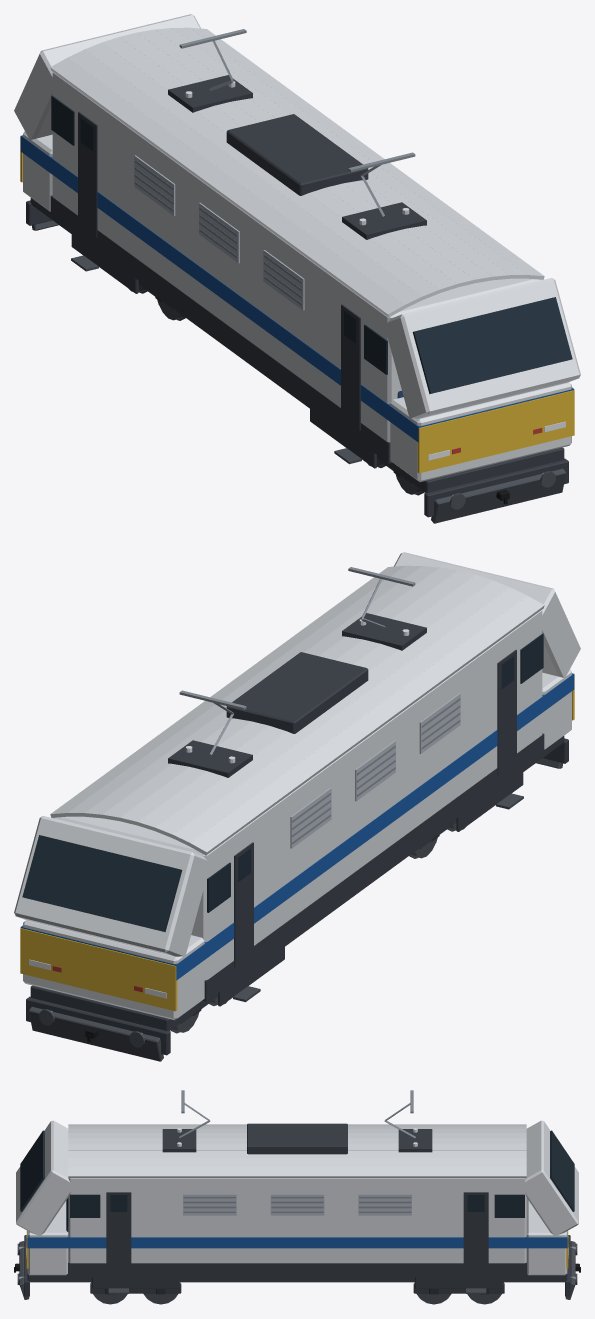
The model's file is locomotive_electrique.glb.
3 renders of one model, top to bottom at view 1: azimuth 30°, elevation 25°; view 2: azimuth 150°, elevation 25°; view 3: azimuth 270°, elevation 25°, orthographic. The views are drawn at different scales.
Parts seen in each view (by area): view 1: pieces_moderne.002, pieces_moderne_sombre.002, pieces_verre_sombre.002, pieces_jaune.002, pieces_moderne_bleu.002, pieces_acier_sombre.004, pieces_gris_clair.002, pieces_acier.004; view 2: pieces_moderne.002, pieces_moderne_sombre.002, pieces_verre_sombre.002, pieces_jaune.002, pieces_moderne_bleu.002, pieces_acier_sombre.004, pieces_gris_clair.002, pieces_acier.004; view 3: pieces_moderne.002, pieces_moderne_sombre.002, pieces_moderne_bleu.002, pieces_verre_sombre.002, pieces_gris_clair.002, pieces_acier.004, pieces_acier_sombre.004, roues_ar_acier_sombre.004, roues_av_acier_sombre.004.
Part boxes in pixels (x1,y1,x2,y2): pieces_moderne.002: (14,14,580,482); pieces_moderne_sombre.002: (26,75,568,517); pieces_verre_sombre.002: (51,95,572,394); pieces_jaune.002: (20,136,574,473); pieces_moderne_bleu.002: (20,135,574,442); pieces_acier_sombre.004: (32,220,566,523); pieces_gris_clair.002: (134,155,304,310); pieces_acier.004: (134,29,543,495); pieces_moderne.002: (14,552,580,1020); pieces_moderne_sombre.002: (26,613,568,1055); pieces_verre_sombre.002: (22,633,543,932); pieces_jaune.002: (20,674,574,1011); pieces_moderne_bleu.002: (20,673,574,980); pieces_acier_sombre.004: (28,758,562,1061); pieces_gris_clair.002: (290,693,460,848); pieces_acier.004: (51,567,460,1033); pieces_moderne.002: (16,1120,578,1275); pieces_moderne_sombre.002: (24,1123,570,1296); pieces_moderne_bleu.002: (27,1231,567,1248); pieces_verre_sombre.002: (20,1130,574,1217); pieces_gris_clair.002: (183,1194,411,1215); pieces_acier.004: (19,1090,575,1279); pieces_acier_sombre.004: (17,1241,577,1299); roues_ar_acier_sombre.004: (414,1282,503,1304); roues_av_acier_sombre.004: (91,1282,180,1304).
Bounding box in the file's own units: 2.03 × 3.19 × 8.41.
